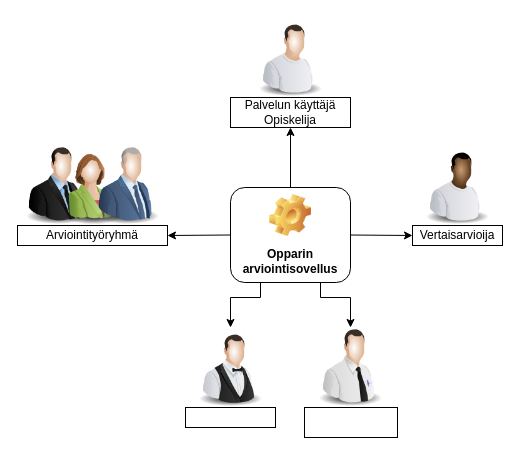
Some shapes in this 520 by 455 pixel diagram are drawn without their labels. Each missing label, with the centre of its shape:
"Opinnäytetyön ohjaaja" goes at (x=351, y=422).
"Tuotteen tilaaja" goes at (x=230, y=417).
